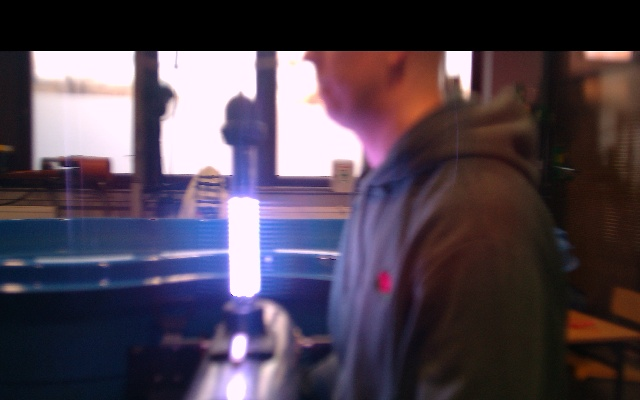white: (227, 194, 262, 300)
